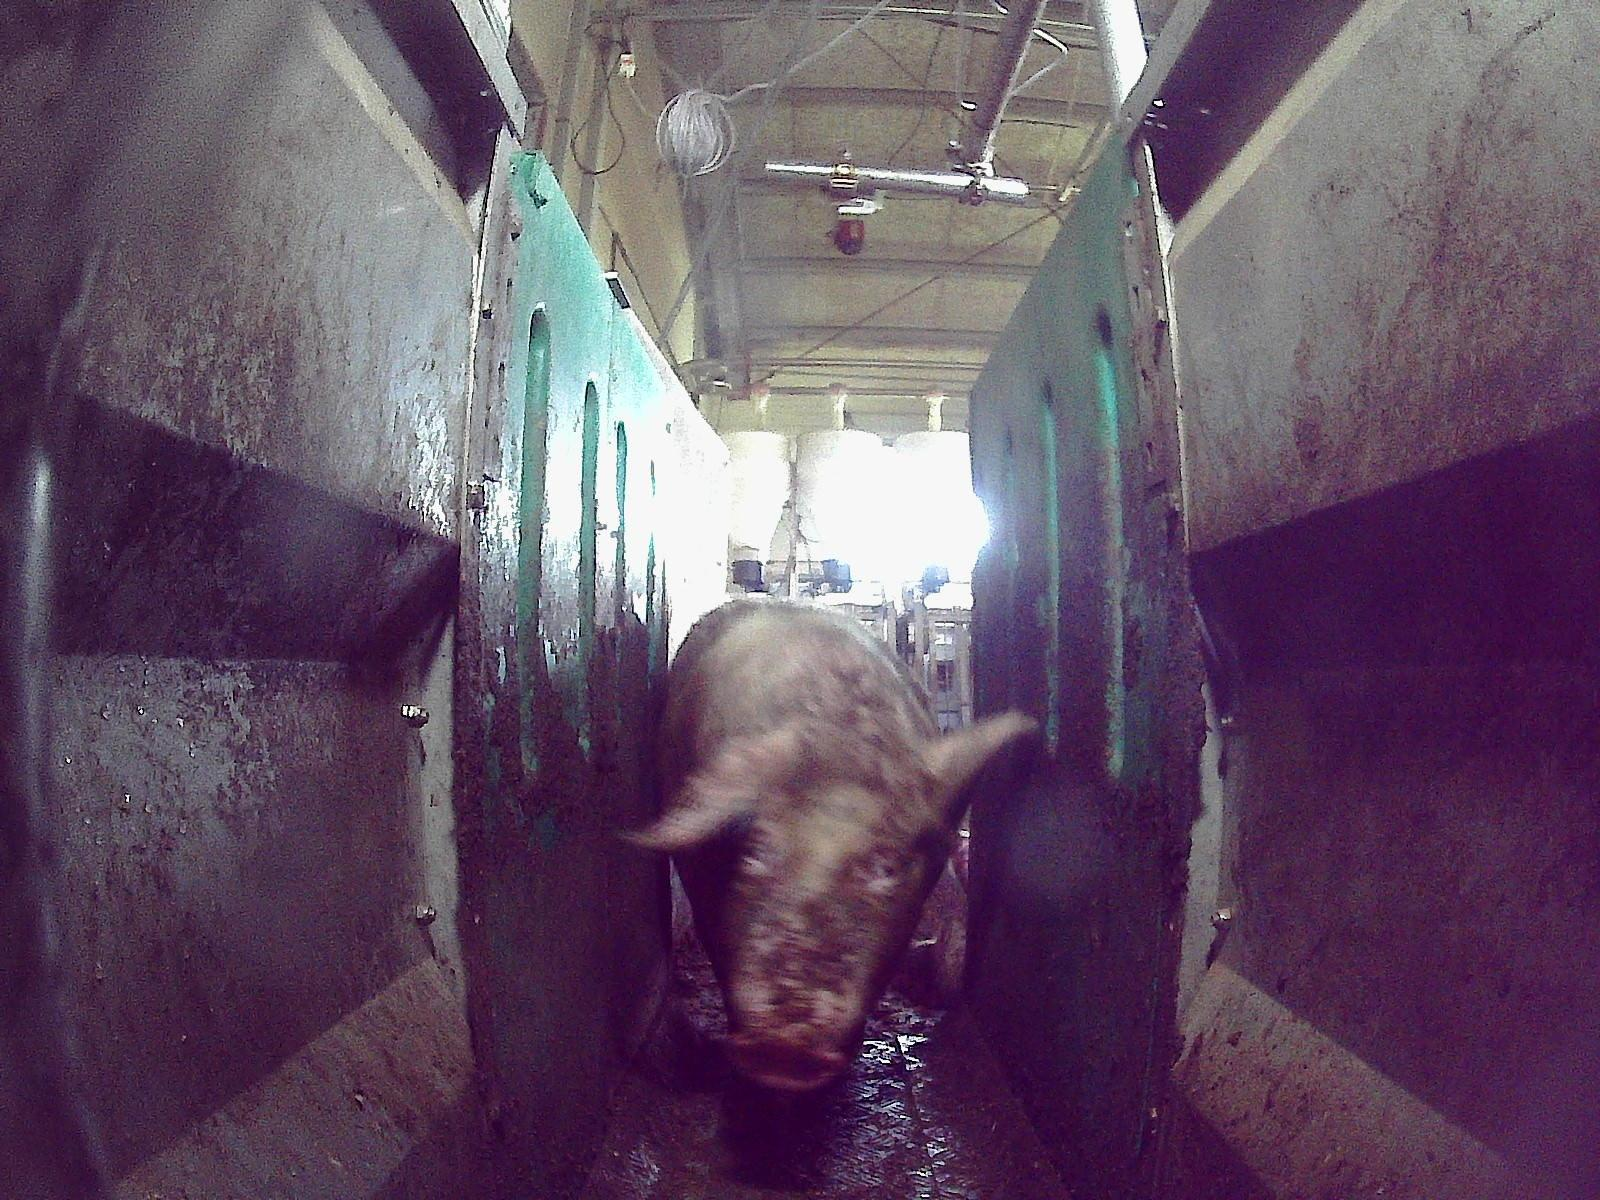Face: (680, 729, 939, 1092)
